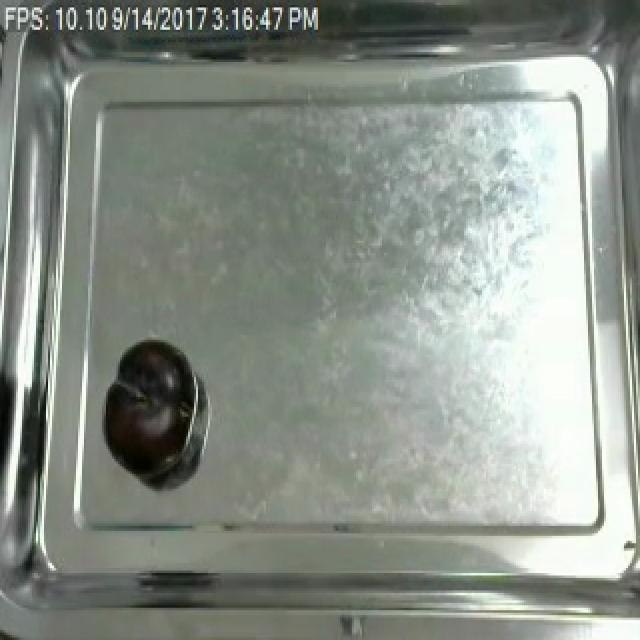Fruit: (100, 335, 194, 479)
